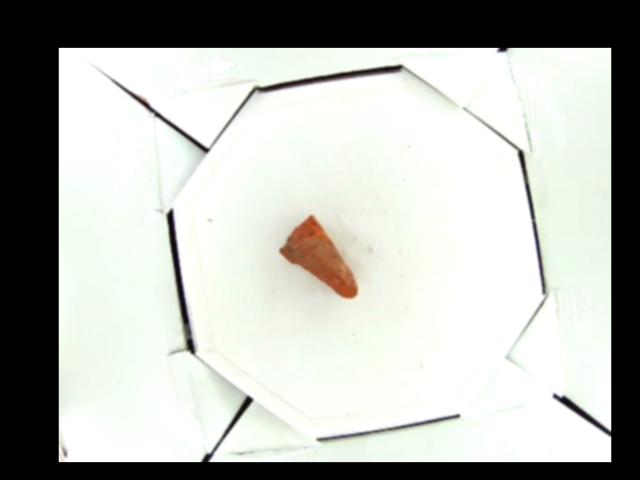Brisk: (278, 214, 358, 299)
